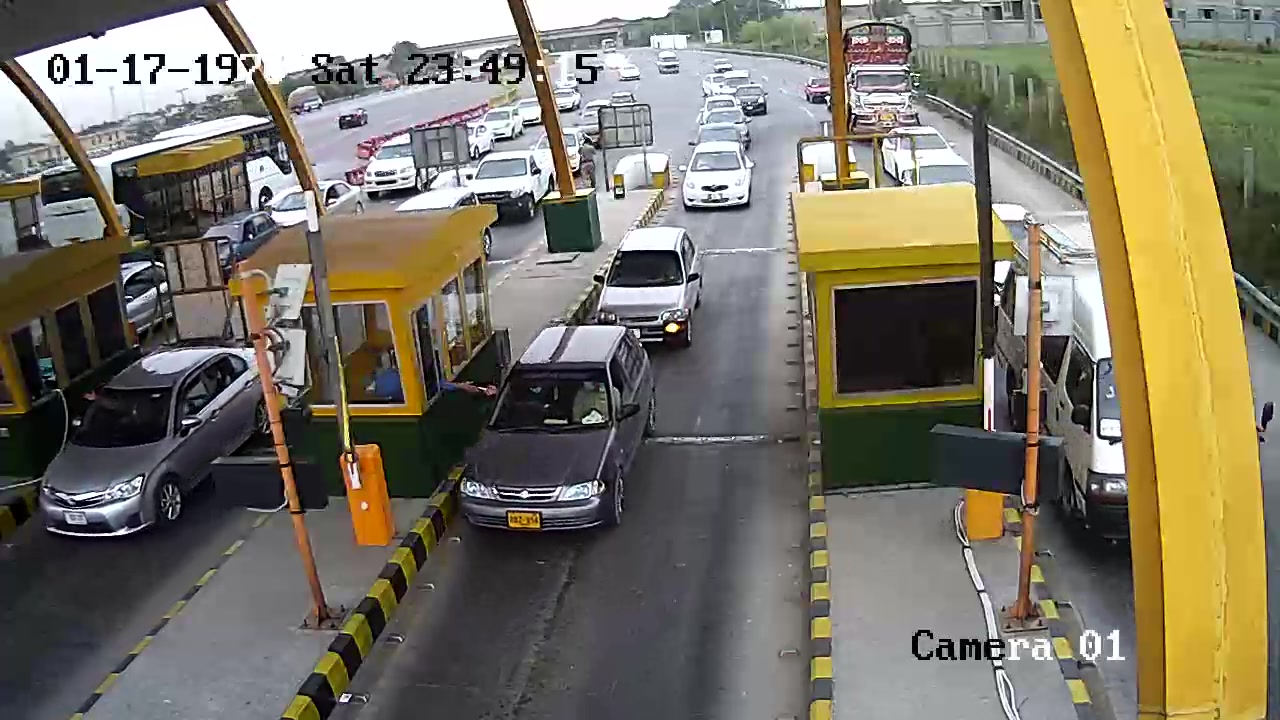F1: (444, 324, 667, 557), (584, 224, 712, 340)
